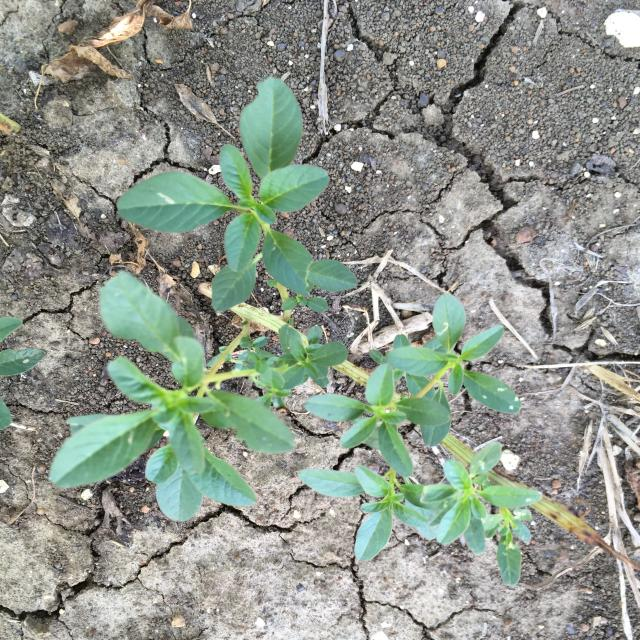Waterhemp: (50, 77, 542, 586)
